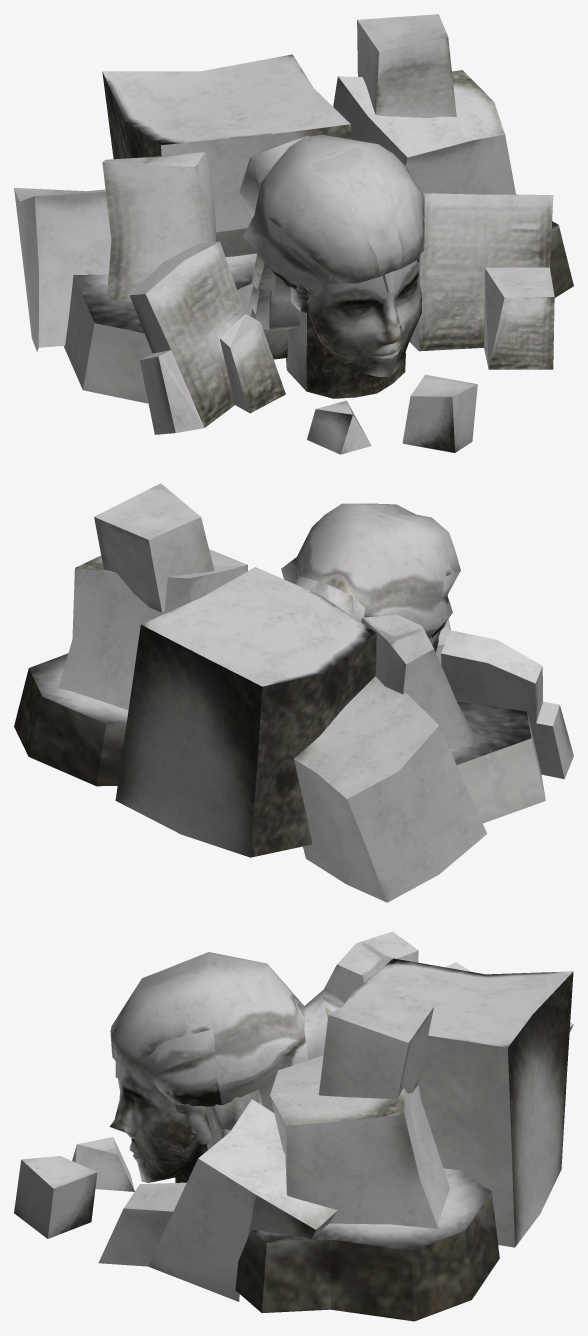
File: ob-bigstatue01.glb
The picture shows the model from 3 angles, top to bottom: view 1: azimuth 30°, elevation 25°; view 2: azimuth 150°, elevation 25°; view 3: azimuth 270°, elevation 25°; orthographic projection. The views are drawn at different scales.
Parts seen in each view (by area): view 1: ob-bigstatue01-01, ob-bigstatue01-02; view 2: ob-bigstatue01-01, ob-bigstatue01-02; view 3: ob-bigstatue01-01, ob-bigstatue01-02.
Boxes of the visible parts, <box> form: ob-bigstatue01-01: <box>14,14,554,454</box>; ob-bigstatue01-02: <box>73,37,573,427</box>; ob-bigstatue01-01: <box>58,483,573,902</box>; ob-bigstatue01-02: <box>14,567,531,857</box>; ob-bigstatue01-01: <box>14,931,573,1301</box>; ob-bigstatue01-02: <box>235,958,573,1321</box>.
Bounding box in the file's own units: 11.2 × 6.4 × 10.85.
Materials: 2 (2 with a texture image).
